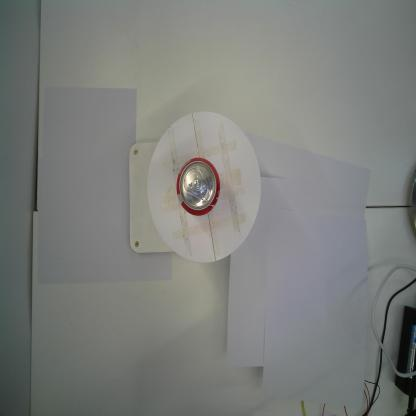Drink: (176, 155, 222, 219)
